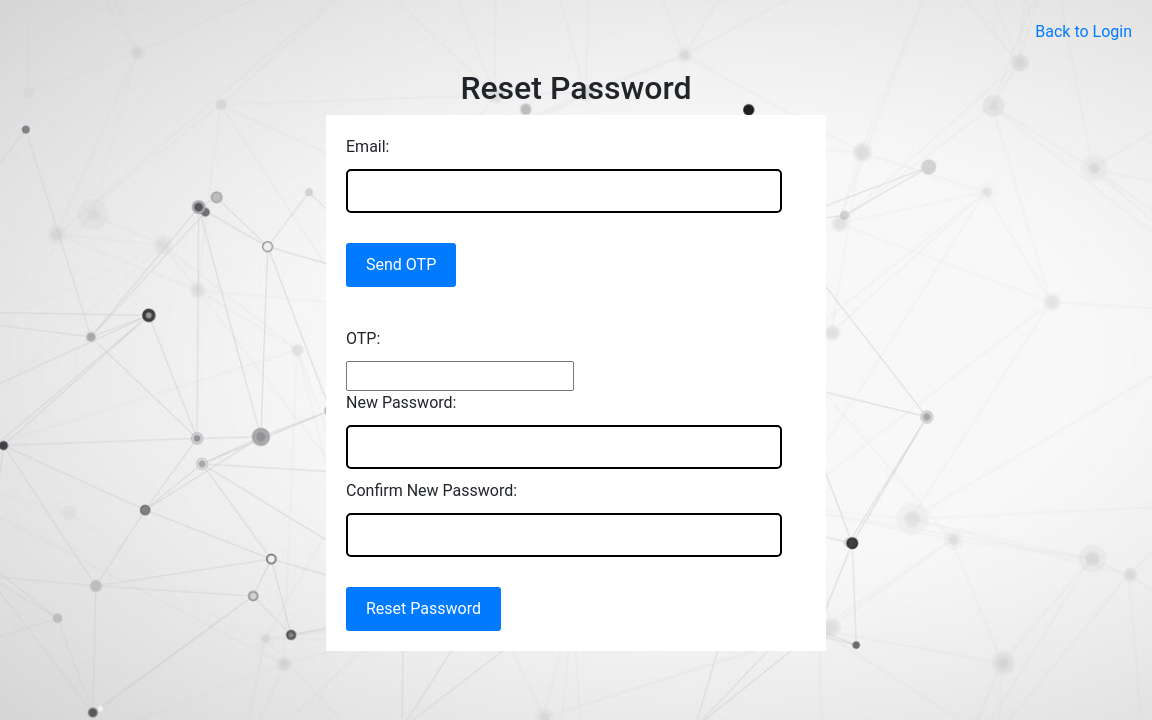
Scenario: ResetPasswordPage component › handleEmailSubmit success
Type "test@example.com" into the field labelled "Email:". click: point(564, 191)
box: [346,169,782,213]
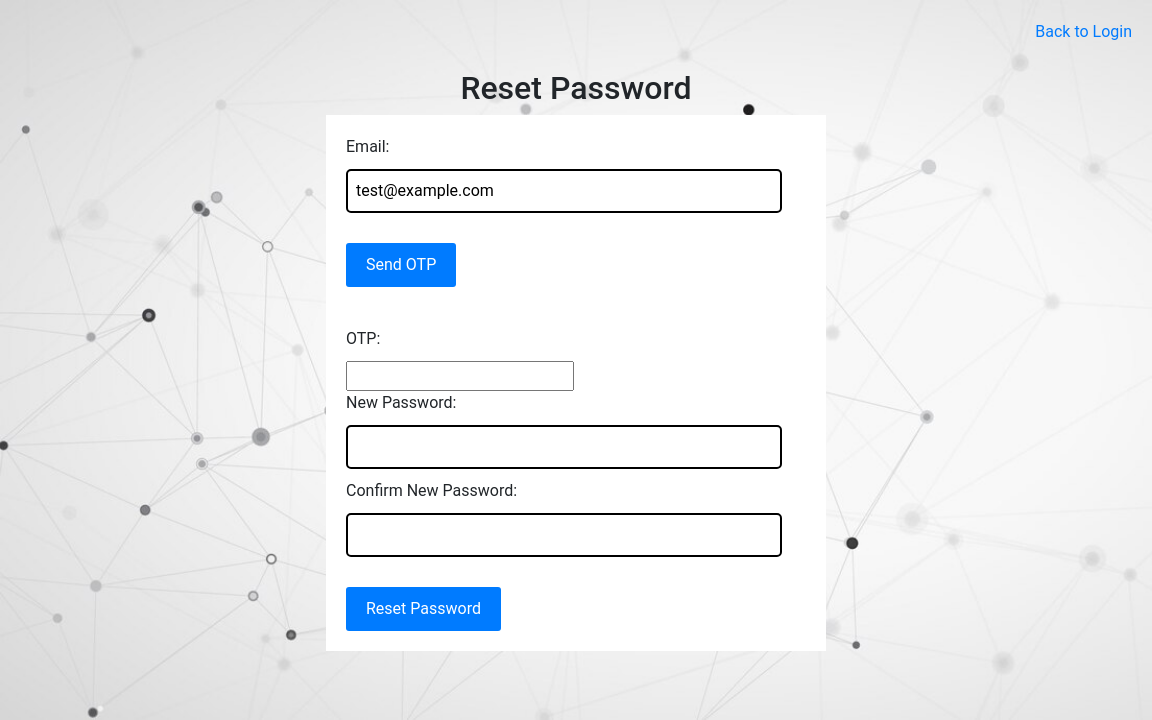
Click the button with test id "sendOtp". click: point(401, 265)
box: [346,243,456,287]
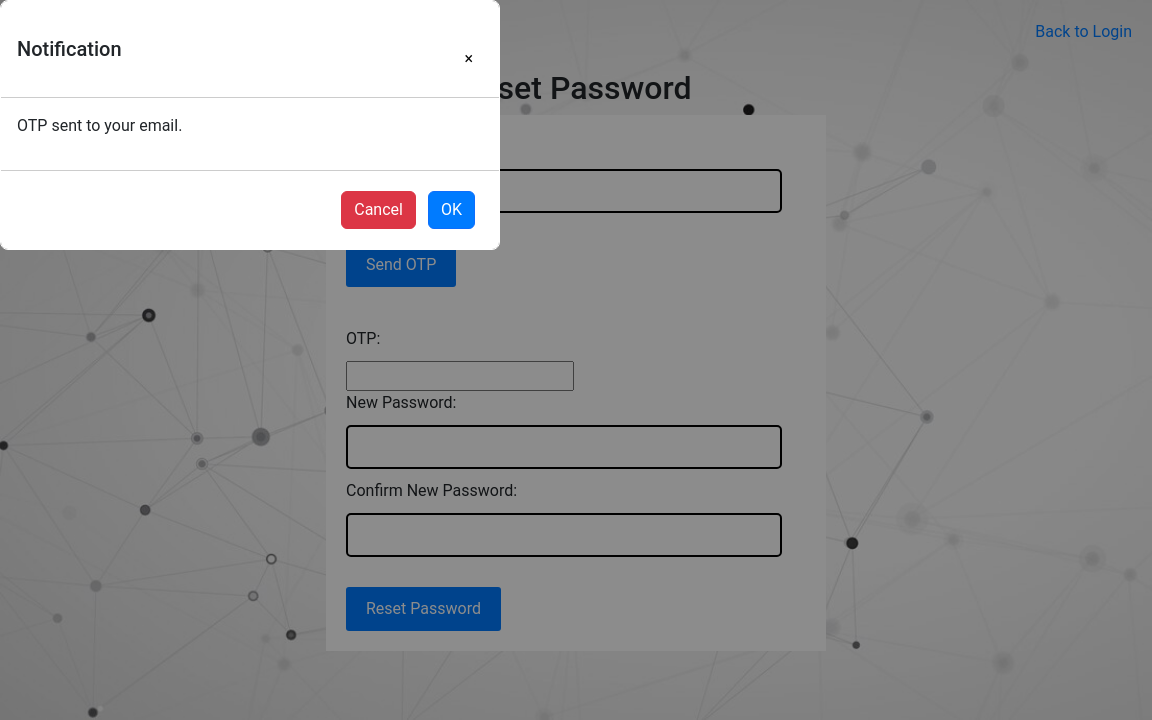
Now the text "OTP sent to your email." is shown, box [17,116,182,135]
